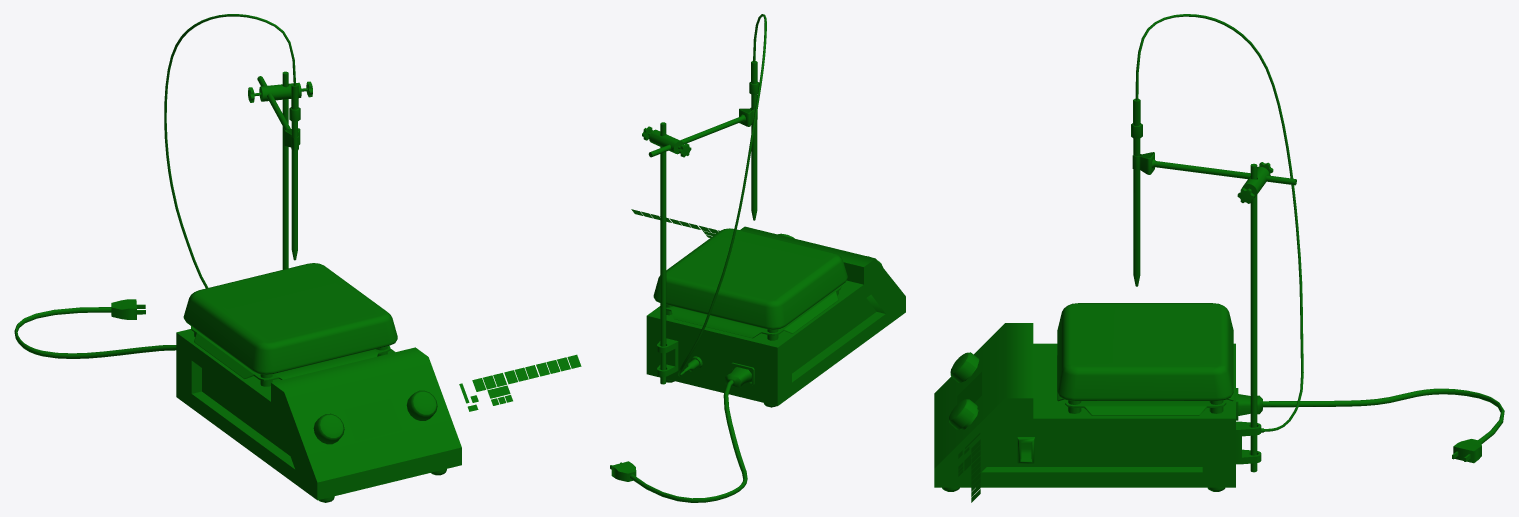
The model's file is MS Vevor.fbx.
3 views of the same model, side by side, from view 1: azimuth 30°, elevation 25°; view 2: azimuth 150°, elevation 25°; view 3: azimuth 270°, elevation 25° (orthographic). The views are drawn at different scales.
Parts seen in each view (by area): view 1: main_body_low, ceramic_plate_low, AC_cable_low, tray_low, screen_low, thermometer_cable_low, thermometer_low, Thermometer_arm_base_low, knob_heat_low, knob_stir_low; view 2: main_body_low, ceramic_plate_low, AC_cable_low, tray_low, Thermometer_arm_base_low, thermometer_cable_low, thermometer_low, thermometer_arm_low, thermometer_holder_low, themometer_arm_upper_low; view 3: main_body_low, ceramic_plate_low, AC_cable_low, Thermometer_arm_base_low, tray_low, thermometer_cable_low, thermometer_low, thermometer_arm_low, thermometer_holder_low, knob_stir_low.
Boxes of the visible parts, bbox=[...] form: main_body_low: bbox=[176, 329, 461, 500]; ceramic_plate_low: bbox=[183, 263, 397, 374]; AC_cable_low: bbox=[14, 299, 176, 358]; tray_low: bbox=[191, 326, 390, 381]; screen_low: bbox=[344, 398, 401, 440]; thermometer_cable_low: bbox=[164, 14, 296, 288]; thermometer_low: bbox=[289, 84, 300, 260]; Thermometer_arm_base_low: bbox=[282, 71, 288, 269]; knob_heat_low: bbox=[313, 413, 344, 444]; knob_stir_low: bbox=[406, 390, 437, 420]; main_body_low: bbox=[646, 226, 905, 406]; ceramic_plate_low: bbox=[653, 228, 847, 329]; AC_cable_low: bbox=[610, 367, 751, 502]; tray_low: bbox=[660, 286, 841, 338]; Thermometer_arm_base_low: bbox=[660, 122, 666, 384]; thermometer_cable_low: bbox=[678, 14, 766, 376]; thermometer_low: bbox=[749, 60, 759, 220]; thermometer_arm_low: bbox=[648, 108, 757, 157]; thermometer_holder_low: bbox=[657, 338, 678, 376]; themometer_arm_upper_low: bbox=[649, 129, 683, 154]; main_body_low: bbox=[934, 323, 1235, 487]; ceramic_plate_low: bbox=[1057, 303, 1233, 400]; AC_cable_low: bbox=[1238, 388, 1504, 463]; Thermometer_arm_base_low: bbox=[1250, 163, 1257, 472]; tray_low: bbox=[1057, 355, 1233, 415]; thermometer_cable_low: bbox=[1135, 14, 1303, 432]; thermometer_low: bbox=[1131, 98, 1142, 286]; thermometer_arm_low: bbox=[1132, 152, 1296, 185]; thermometer_holder_low: bbox=[1236, 421, 1261, 464]; knob_stir_low: bbox=[949, 399, 978, 429].
Size of the model in its own units: 42.08 by 48.29 by 57.66.
